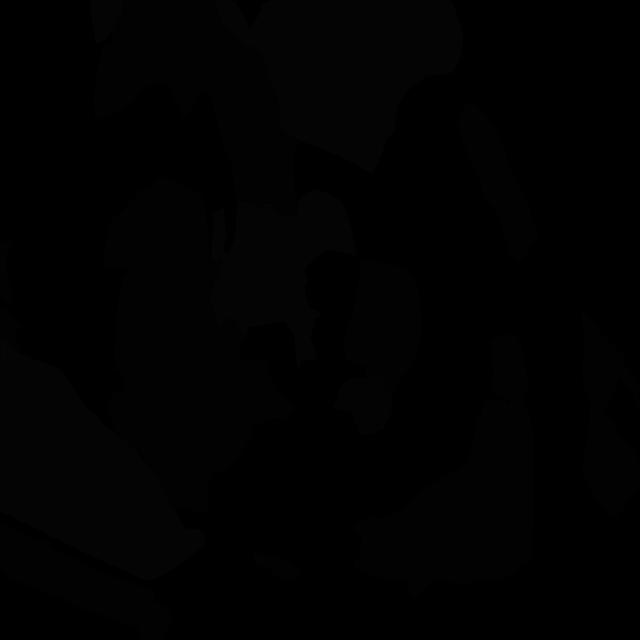cardboard: (93, 0, 302, 215), (103, 177, 224, 513), (353, 399, 534, 597), (0, 523, 172, 639), (210, 319, 297, 473), (456, 103, 539, 262), (580, 311, 640, 518), (342, 259, 421, 392), (489, 333, 528, 400), (106, 390, 143, 460), (252, 551, 303, 583), (0, 309, 22, 354), (0, 240, 14, 305)
metal: (332, 366, 392, 435)
soft_plastic: (0, 337, 205, 581), (214, 0, 464, 174), (209, 189, 356, 372), (90, 0, 124, 44)
